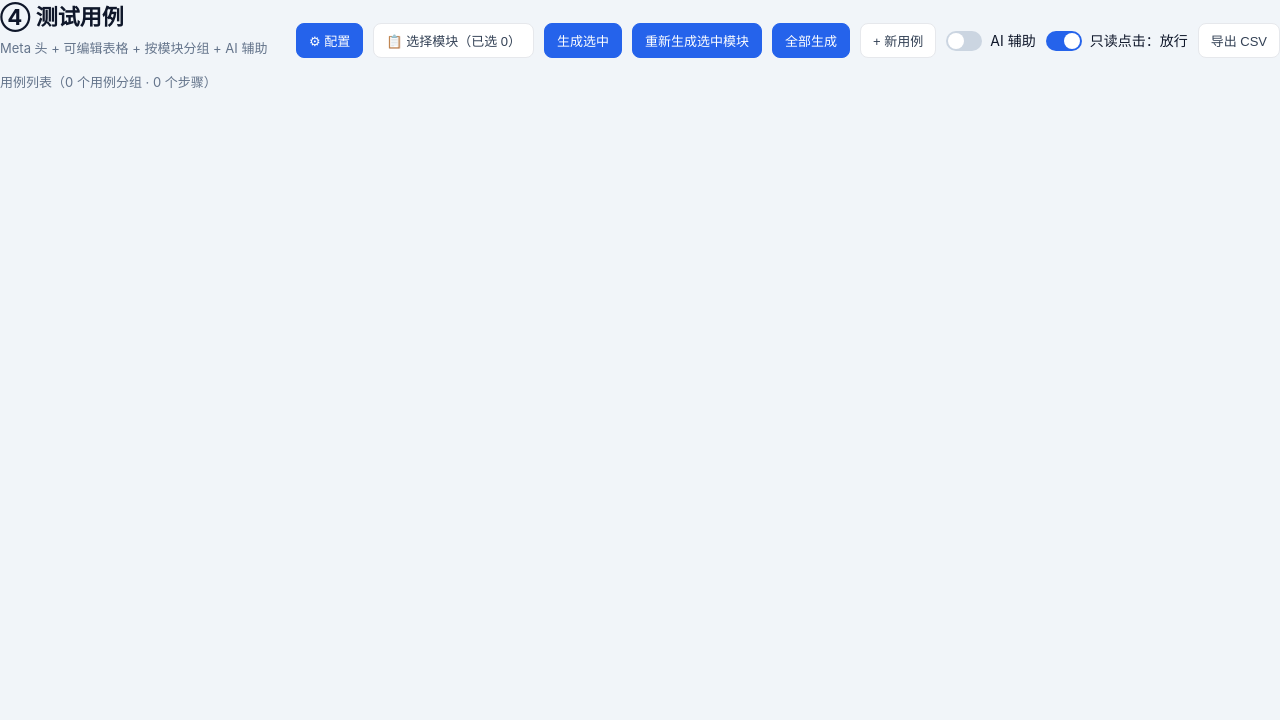
Test: Case 测试用例 › 选择模块Modal应可打开
Click the button "📋 选择模块（已选 0）" at (454, 41), box [373,23,534,58]
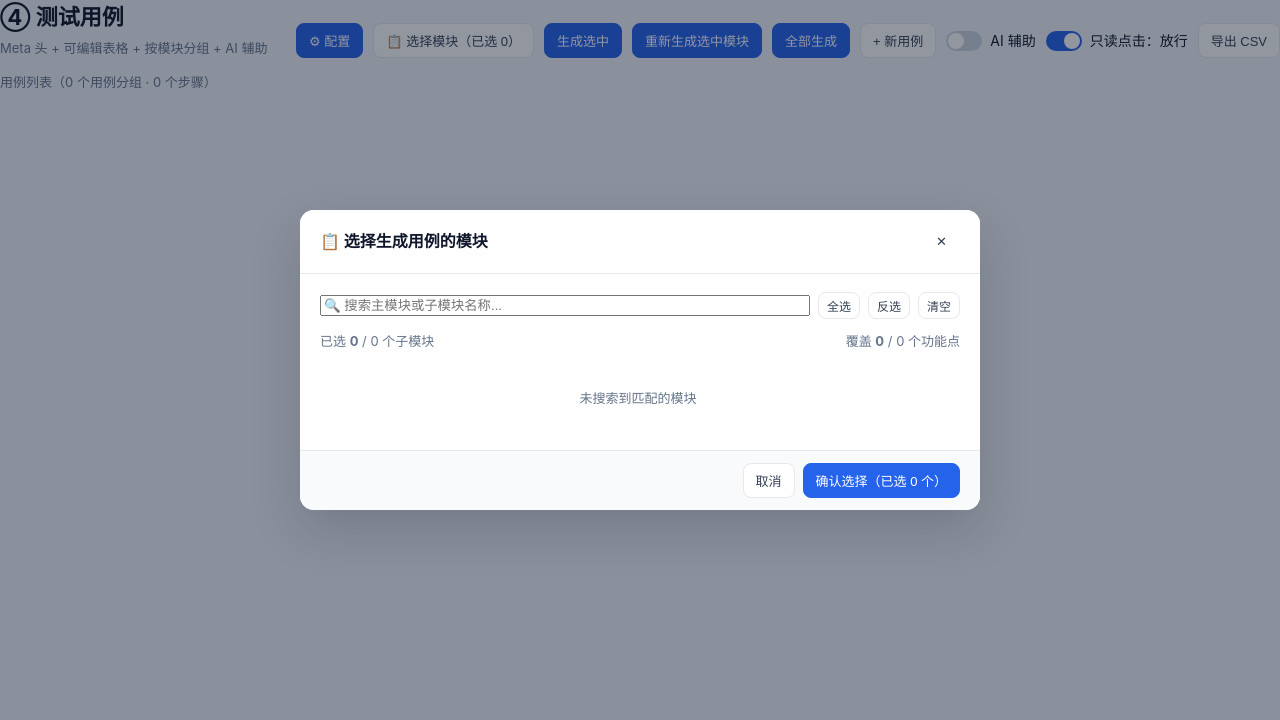
Now the button "确认选择（已选 0 个）" is shown, box [802,463,960,498]
